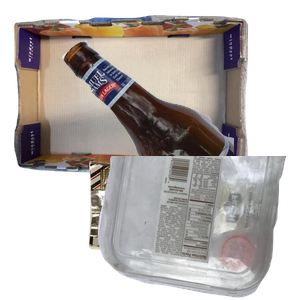cardboard: (11, 13, 251, 182)
glass: (60, 38, 300, 218)
plastic: (95, 156, 300, 300)
trash: (86, 158, 242, 300)
